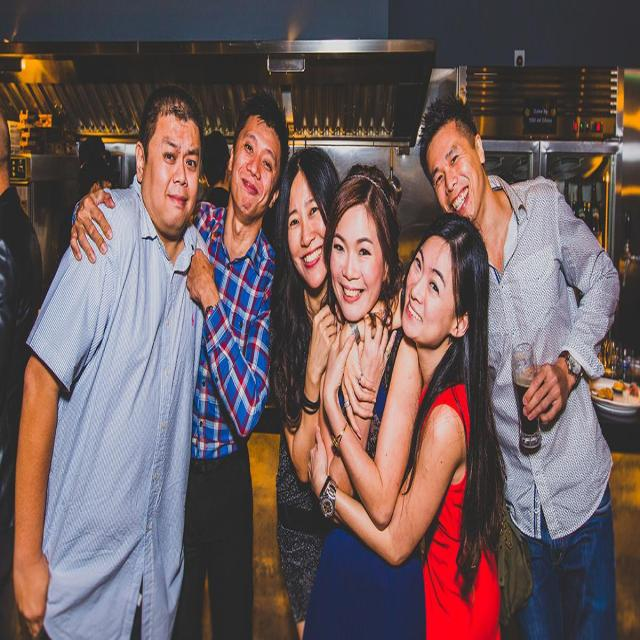gun: (13, 79, 246, 640), (366, 155, 624, 640), (436, 94, 626, 607), (202, 103, 271, 640), (272, 129, 332, 515), (324, 140, 394, 364), (78, 133, 118, 200)
